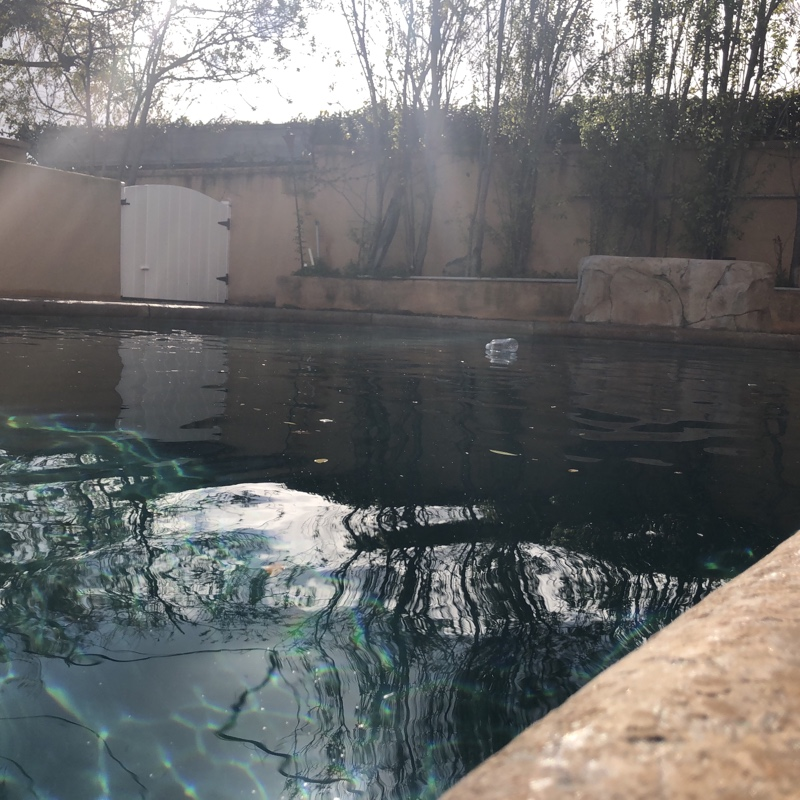Plastic Bottle: (482, 339, 518, 354)
